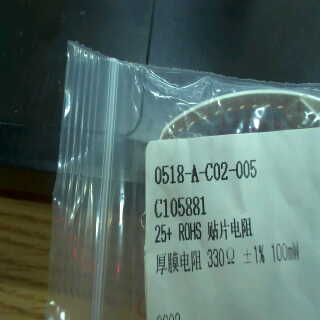330R: (204, 245, 238, 268)
